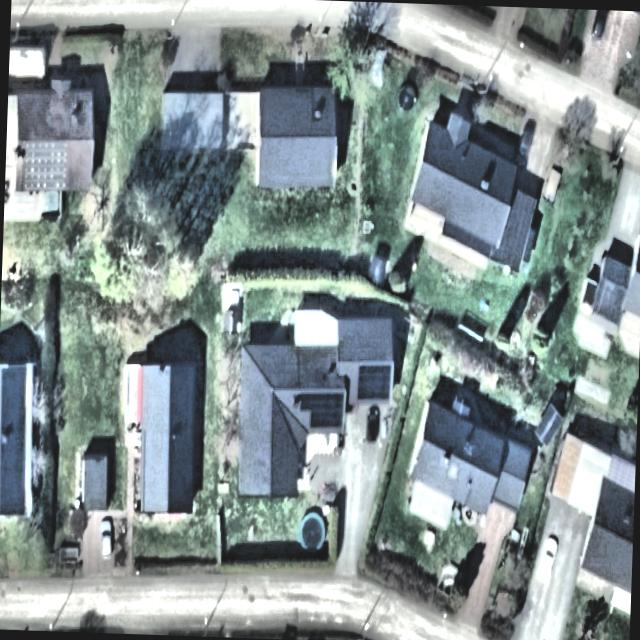roof_pv: (24, 143, 68, 194), (296, 389, 344, 432), (357, 366, 393, 404)
